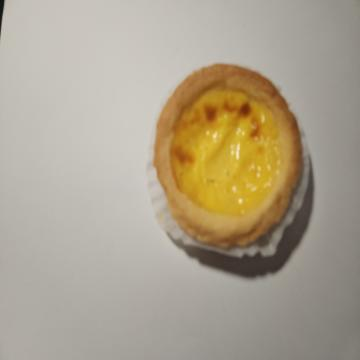EggTart: (154, 62, 301, 251)
